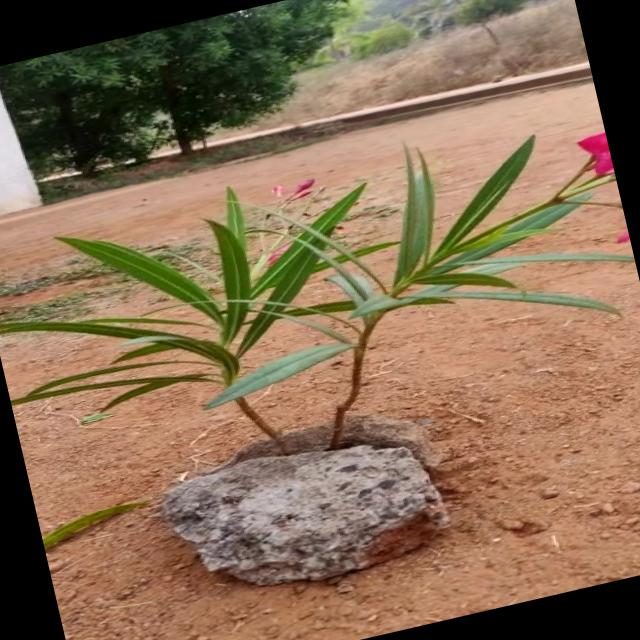OLEANDER: (0, 92, 640, 497)
